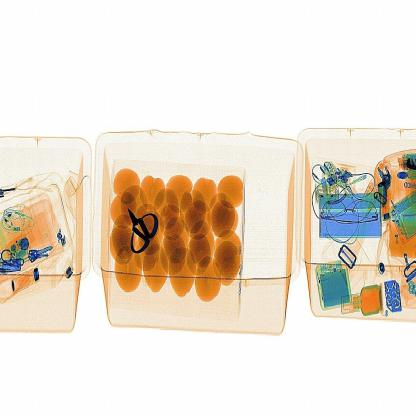gun: (120, 193, 168, 264)
